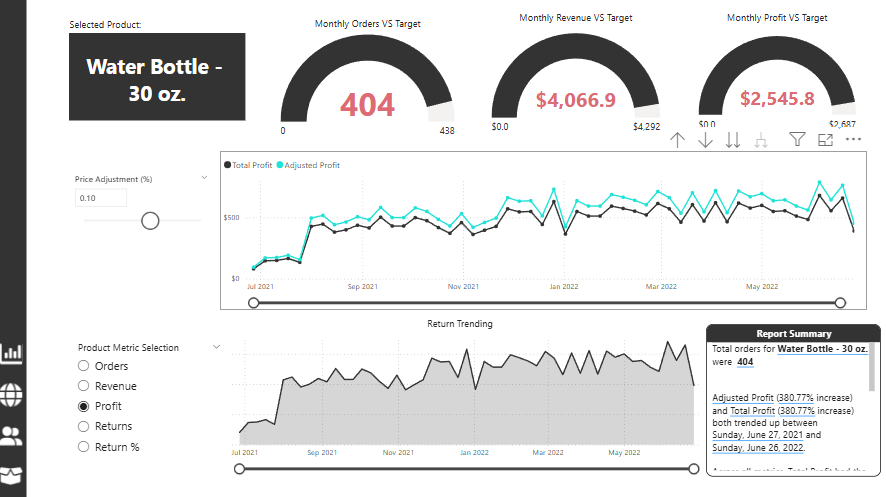

The page's visual inventory and layout, read from the dashboard file:
{"tool":"powerbi","page":{"name":"Product Detail","canvas":[1280,720],"ordinal":3},"visuals":[{"type":"shape","box":[0,0,45,720],"z":0},{"type":"gauge","title":"Monthly Orders VS Target ","fields":{"Y":["Measure Table.Total orders"],"MaxValue":["Measure Table.Order Target"]},"box":[402.3,26.7,259.2,184.6],"z":1000},{"type":"actionButton","box":[1.2,485.5,41.6,46.5],"z":1000,"group":"g1"},{"type":"gauge","title":"Monthly Profit VS Target ","fields":{"Y":["Measure Table.Total Profit"],"MaxValue":["Measure Table.Profit target"]},"box":[1000,18.1,235,194],"z":2000},{"type":"actionButton","box":[1.2,602.1,41.6,46.5],"z":2000,"group":"g1"},{"type":"gauge","title":"Monthly Revenue VS Target ","fields":{"Y":["Measure Table.Total revenue"],"MaxValue":["Measure Table.Revenue Target"]},"box":[704,18.1,251,194],"z":3000},{"type":"actionButton","box":[1.2,543.8,41.6,46.5],"z":3000,"group":"g1"},{"type":"lineChart","title":"Profit Trending","fields":{"Category":["Calendar Lookup.Date Hierarchy.Start of Year","Calendar Lookup.Date Hierarchy.Start of Month","Calendar Lookup.Date Hierarchy.Start of Week","Calendar Lookup.Date Hierarchy.Date"],"Y":["Measure Table.Total Profit","Measure Table.Adjusted Profit"]},"box":[321.2,218.8,925,227.5],"z":4000},{"type":"actionButton","box":[1.2,660.4,41.6,46.5],"z":4000,"group":"g1"},{"type":"areaChart","title":"Return Trending","fields":{"Y":["Measure Table.Total Profit"],"Category":["Calendar Lookup.Date Hierarchy.Start of Year","Calendar Lookup.Date Hierarchy.Start of Month","Calendar Lookup.Date Hierarchy.Start of Week","Calendar Lookup.Date Hierarchy.Date"]},"box":[301.2,456.2,726.2,227.5],"z":5000},{"type":"card","fields":{"Values":["Min(Product Lookup.ProductName)"]},"box":[105.3,50.3,251.9,124.7],"z":6000},{"type":"textbox","box":[102.1,24.1,212,46],"z":7000},{"type":"group","id":"g1","title":"Navigation Button","box":[1.2,485.5,41.6,221.3],"z":8000},{"type":"slicer","fields":{"Values":["Price Adjustment (%).Price Adjustment (%)"]},"box":[101.5,244.6,215.2,129.6],"z":9000},{"type":"slicer","fields":{"Values":["Product Metric Selection .Product Metric Selection "]},"box":[105.2,485.5,228.7,196.9],"z":10000},{"type":"textbox","title":"Report Summary","box":[1016.2,465,250,217.5],"z":11000}]}

Visuals, with their boxes on the page's 1280x720 design canvas (x1, y1, x2, y2). These are canvas units, not pixel positions in the 886x497 screenshot, which may show the page scaled, cropped or inside an application window:
shape: bbox=(0, 0, 45, 720)
"Monthly Orders VS Target " gauge: bbox=(402, 27, 662, 211)
actionButton: bbox=(1, 486, 43, 532)
"Monthly Profit VS Target " gauge: bbox=(1000, 18, 1235, 212)
actionButton: bbox=(1, 602, 43, 649)
"Monthly Revenue VS Target " gauge: bbox=(704, 18, 955, 212)
actionButton: bbox=(1, 544, 43, 590)
"Profit Trending" lineChart: bbox=(321, 219, 1246, 446)
actionButton: bbox=(1, 660, 43, 707)
"Return Trending" areaChart: bbox=(301, 456, 1027, 684)
card - Min(Product Lookup.ProductName): bbox=(105, 50, 357, 175)
textbox: bbox=(102, 24, 314, 70)
"Navigation Button" group: bbox=(1, 486, 43, 707)
slicer - Price Adjustment (%).Price Adjustment (%): bbox=(102, 245, 317, 374)
slicer - Product Metric Selection .Product Metric Selection : bbox=(105, 486, 334, 682)
"Report Summary" textbox: bbox=(1016, 465, 1266, 682)
